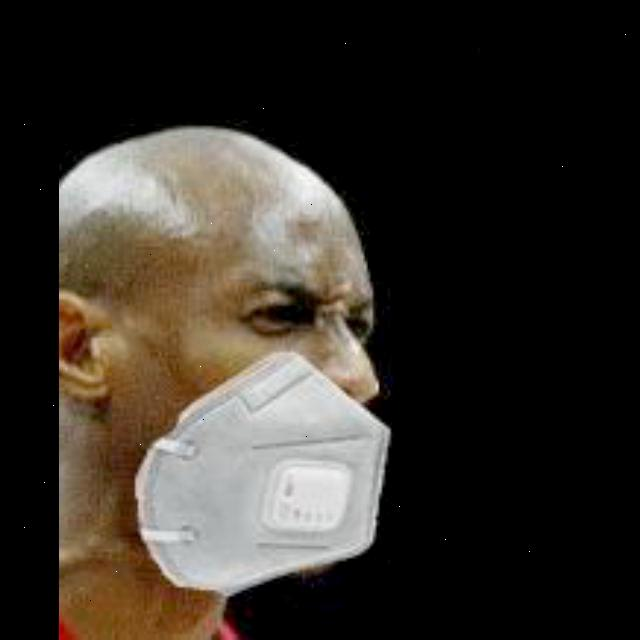suspicion: (63, 124, 441, 636)
